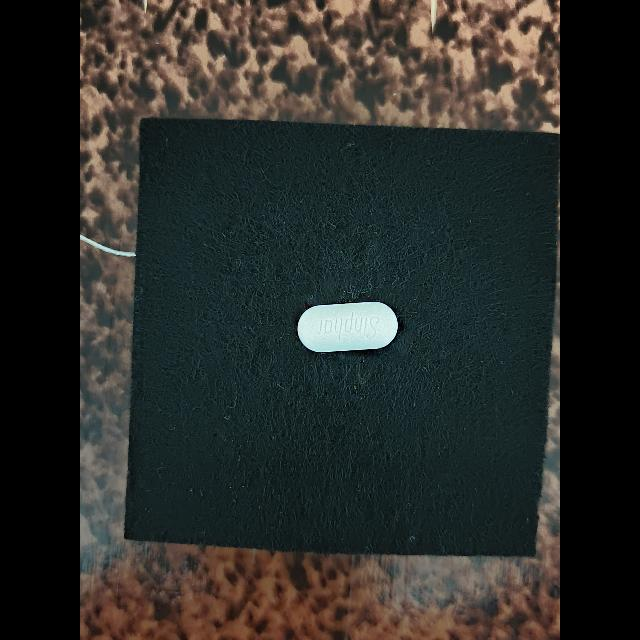Intact Pill: (298, 302, 398, 353)
